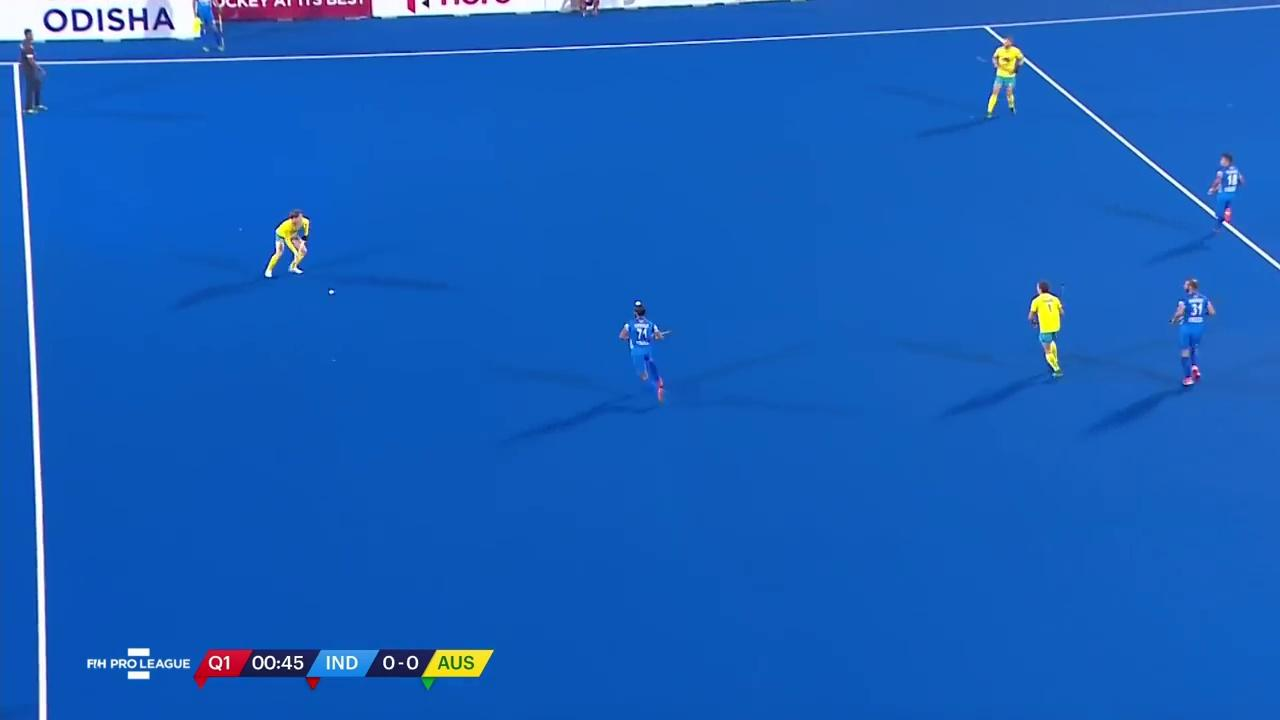ball: (326, 282, 341, 299)
